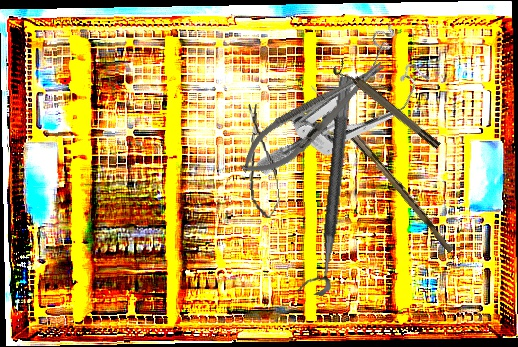Fixation Ring: (297, 74, 353, 297), (330, 57, 443, 156)
Micro Scissor: (241, 102, 282, 220)
Needle Holder: (230, 47, 397, 189)
Speculum: (253, 11, 443, 219)
Surgical Spoon: (306, 82, 457, 254)
